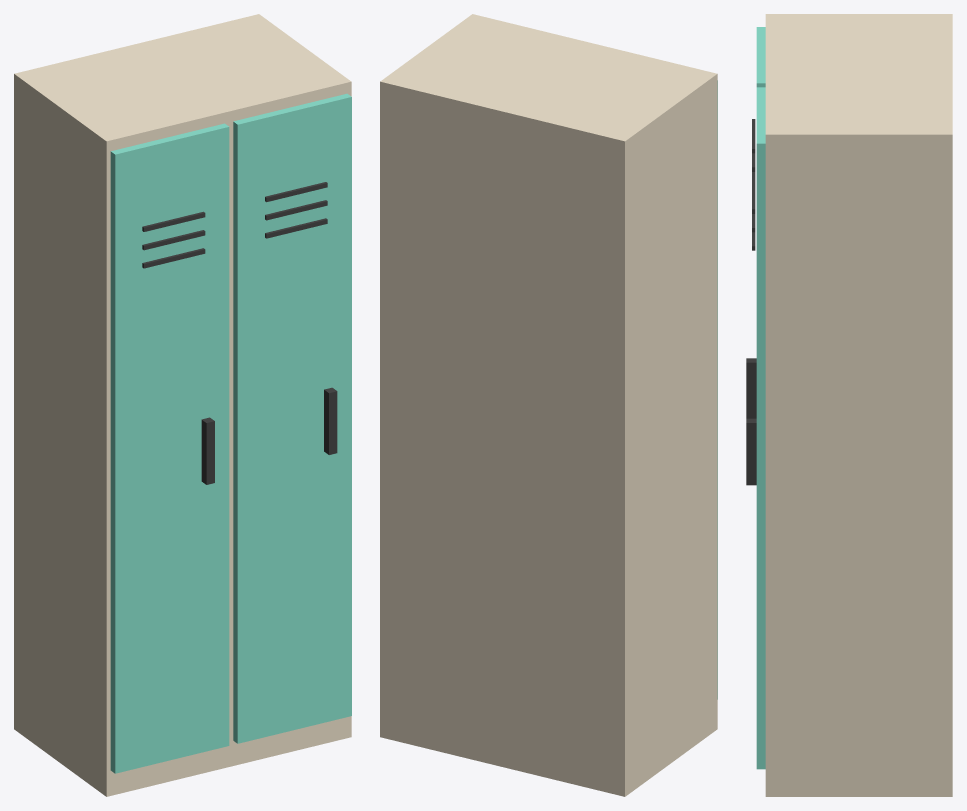
3 views of the same model, side by side, from view 1: azimuth 30°, elevation 25°; view 2: azimuth 150°, elevation 25°; view 3: azimuth 270°, elevation 25° (orthographic).
Visible parts, largest first — view 1: Case, Door, Door.001, Handle, Handle.001; view 2: Case, Door; view 3: Case, Door.001, Handle.001, Handle, Door.
Part boxes in pixels (bbox=[...]): Case: bbox=[14, 14, 351, 796]; Door: bbox=[110, 123, 229, 773]; Door.001: bbox=[233, 93, 351, 743]; Handle: bbox=[201, 417, 214, 484]; Handle.001: bbox=[324, 387, 337, 454]; Case: bbox=[380, 14, 717, 796]; Door: bbox=[717, 80, 717, 699]; Case: bbox=[765, 14, 952, 796]; Door.001: bbox=[756, 87, 765, 769]; Handle.001: bbox=[746, 418, 756, 485]; Handle: bbox=[746, 358, 756, 418]; Door: bbox=[756, 27, 765, 87].
Size of the model in its own units: 0.704 by 1.8 by 0.5075.
1 material, 1 textured.
